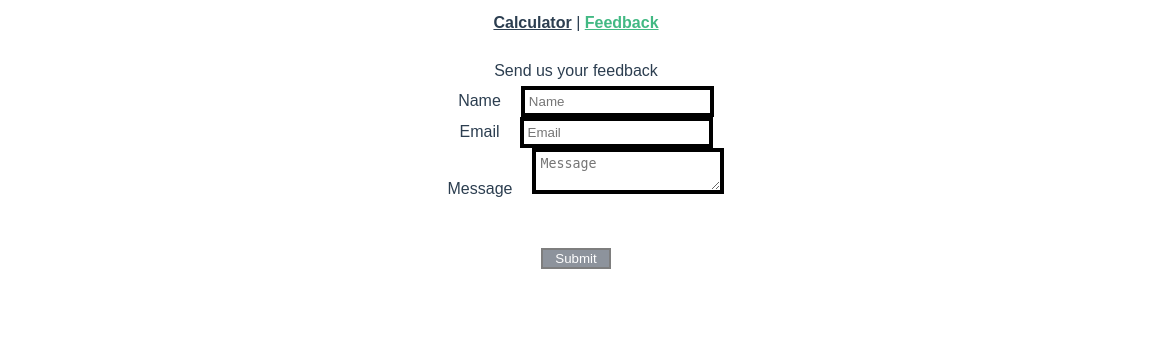
Scenario: Tests for trying out form for feedback › Submitting form shows network error message when server is offline
In the field with id "Name": [618, 102] box [521,86,714,117], type "example name"
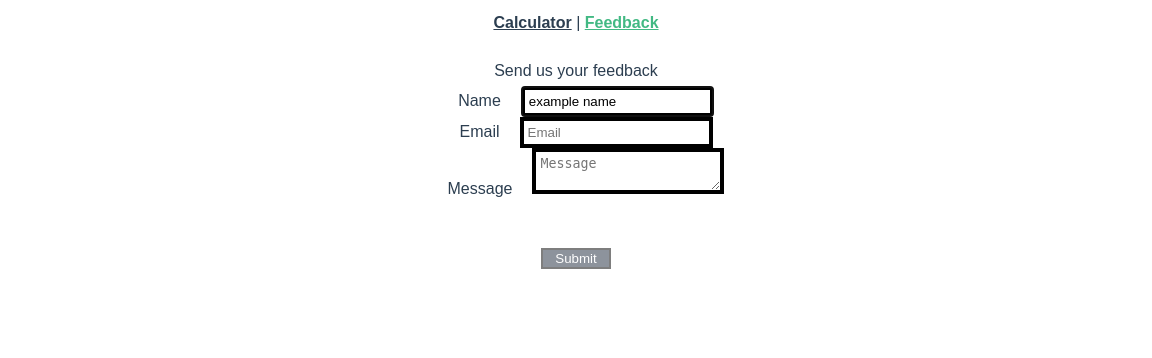
In the field with id "Email": [617, 133] box [520,117,713,148], type "exampleEmail@example.com"
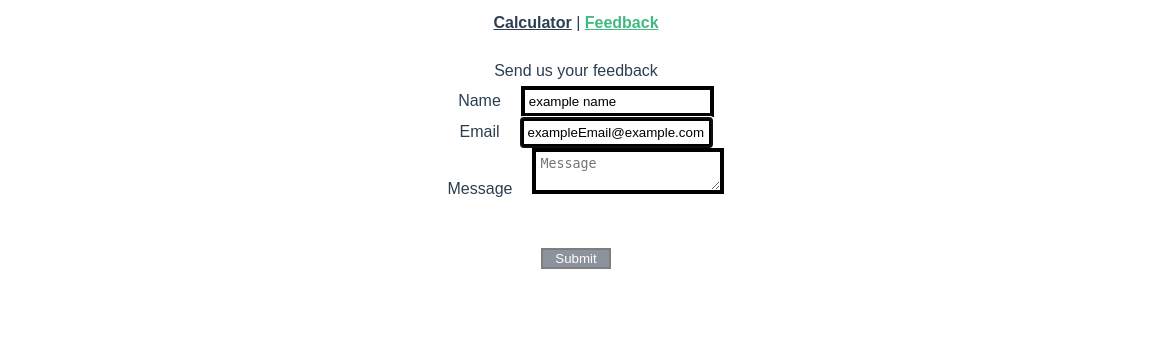
In the text box with id "Message": [629, 171] box [533,148,725,194], type "example message"
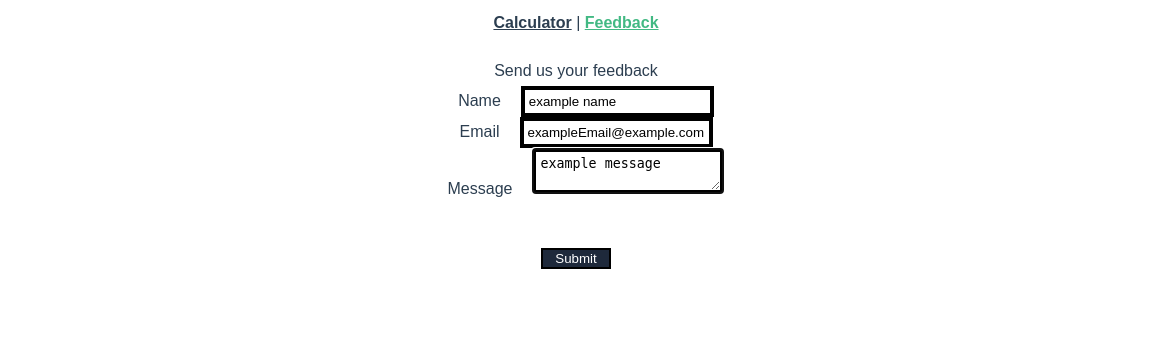
Submit the form, box [448,86,725,269]
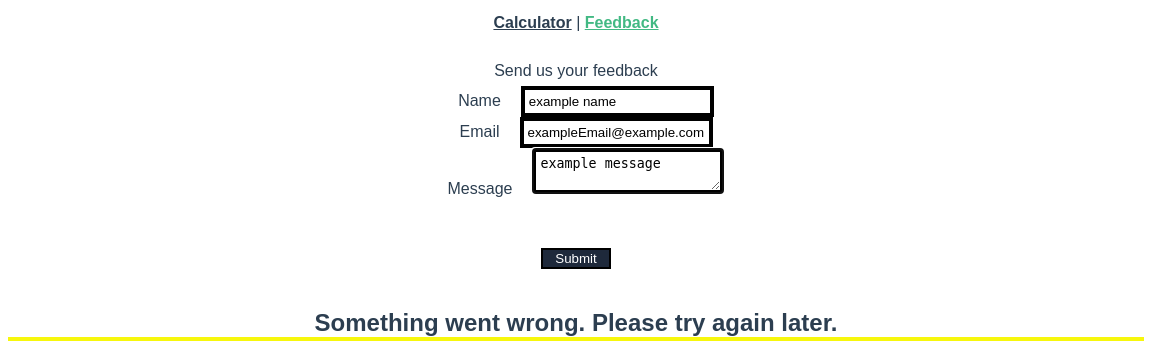
Result: the heading "Something went wrong. Please try again later." is shown at [8,309,1144,341]
